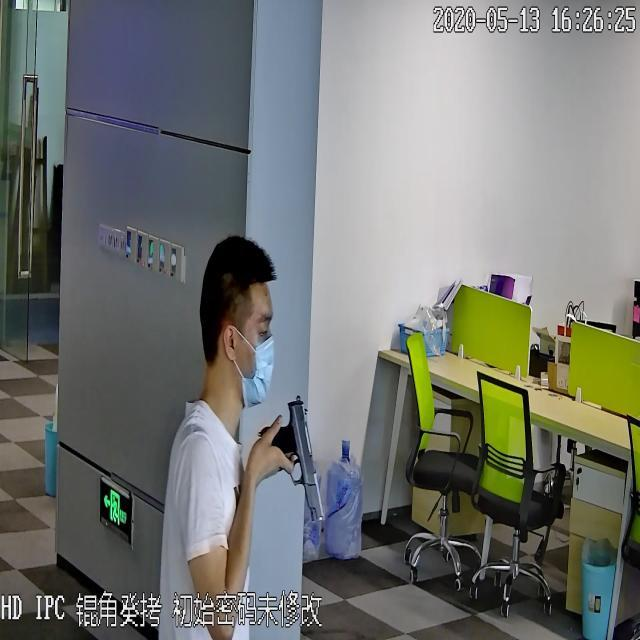gun: (257, 393, 324, 525)
